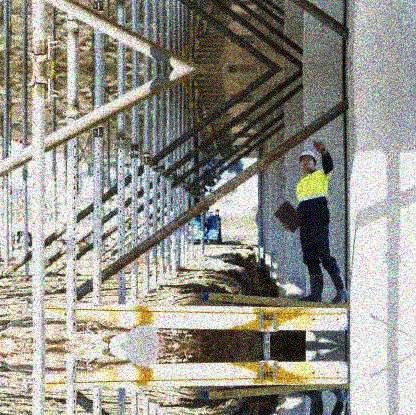helmet: (297, 150, 317, 175)
